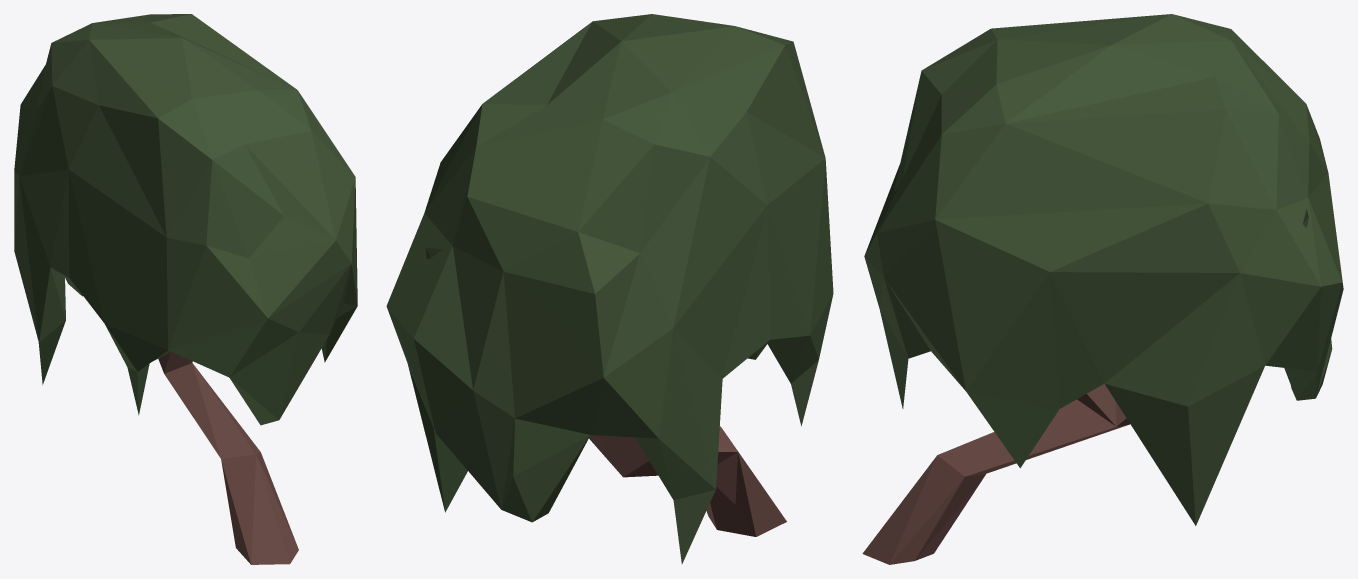
The model's file is Willow_3.lod2.glb.
3 views of the same model, side by side, from view 1: azimuth 30°, elevation 25°; view 2: azimuth 150°, elevation 25°; view 3: azimuth 270°, elevation 25° (orthographic). The views are drawn at different scales.
Parts seen in each view (by area): view 1: Willow_3; view 2: Willow_3; view 3: Willow_3.
Boxes of the visible parts, x1=… form: Willow_3: x1=14, y1=14, x2=357, y2=564; Willow_3: x1=386, y1=14, x2=833, y2=563; Willow_3: x1=862, y1=14, x2=1343, y2=564.
Bounding box in the file's own units: 1.3 × 2.33 × 1.99.
